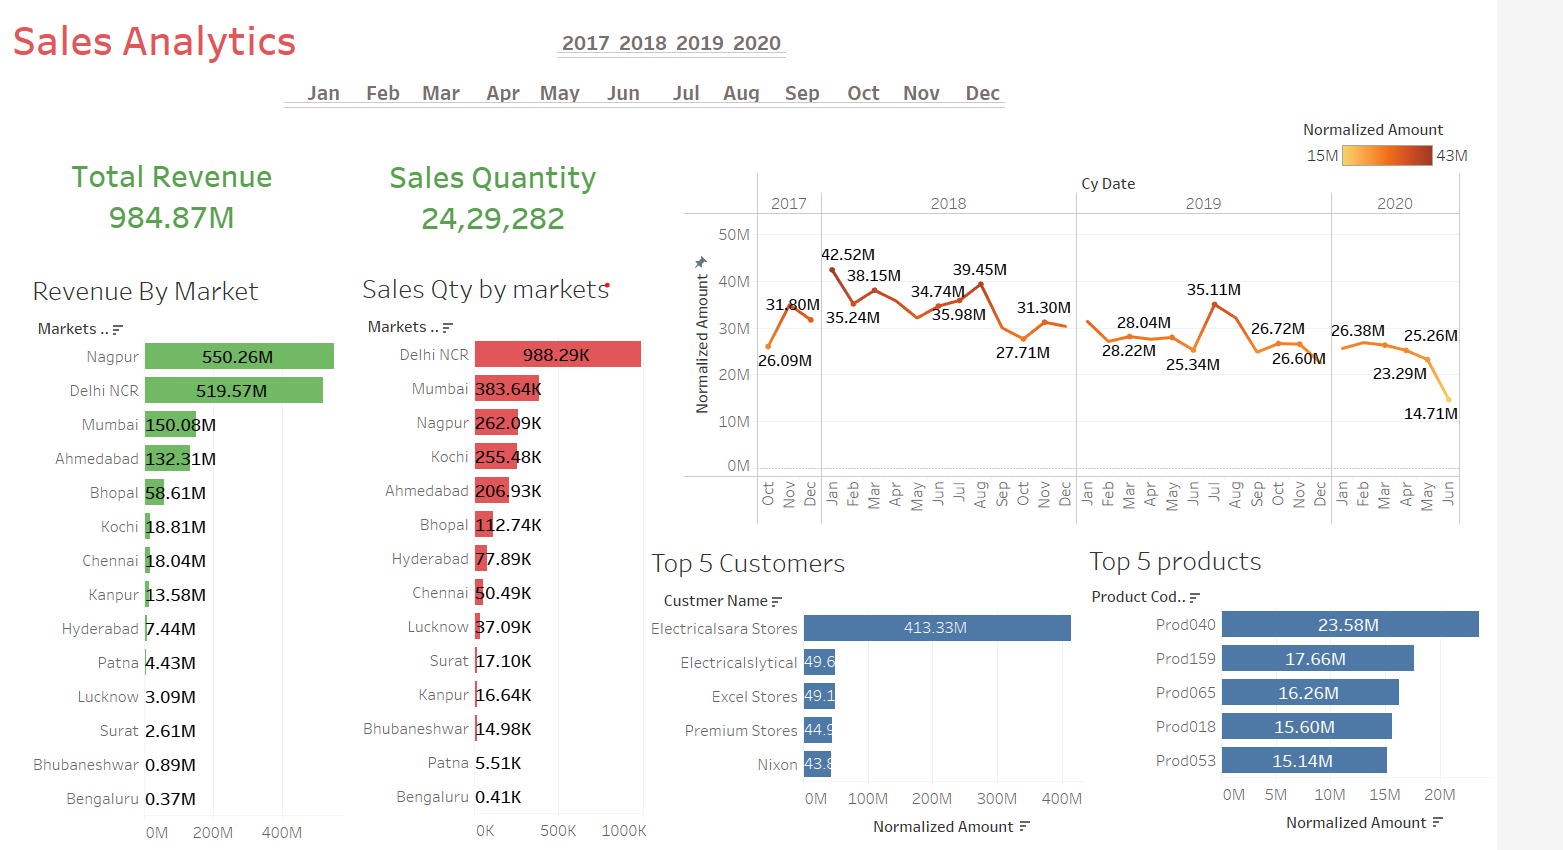

This screenshot's page, from the dashboard's own definition file:
{"tool":"tableau","page":{"name":"Sales Analytics","canvas":[1500,900],"ordinal":0},"visuals":[{"type":"title","box":[8,8,1484,63]},{"type":"worksheet","title":"Year","mark":"Automatic","cols":["cy_date"],"box":[560,33,269,42]},{"type":"worksheet","title":"Month","mark":"Automatic","cols":["cy_date"],"box":[287,83,757,36]},{"type":"legend","title":"Revenue by year","param":"[federated.1uiegb21ql1wom13a0ei50z3dwzk].[sum:Calculation_889742457492054017:qk]","box":[1306,120,170,88]},{"type":"worksheet","title":"Revenue","mark":"Automatic","box":[65,155,222,85]},{"type":"worksheet","title":"Quantity","mark":"Automatic","box":[386,156,245,93]},{"type":"worksheet","title":"Revenue by year","mark":"Automatic","rows":["Calculation_889742457492054017"],"cols":["cy_date","cy_date"],"box":[687,159,776,367]},{"type":"worksheet","title":"Sales Qty by markets","mark":"Automatic","rows":["markets_name"],"cols":["sales_qty"],"box":[361,268,296,617]},{"type":"worksheet","title":"Revenue By Market","mark":"Automatic","rows":["markets_name"],"cols":["Calculation_889742457492054017"],"box":[31,270,340,629]},{"type":"worksheet","title":"Top 5 products","mark":"Automatic","rows":["product_code (products)"],"cols":["Calculation_889742457492054017"],"box":[1088,540,407,322]},{"type":"worksheet","title":"Top 5 Customers","mark":"Automatic","rows":["custmer_name"],"cols":["Calculation_889742457492054017"],"box":[650,542,437,332]}]}

Visuals, with their boxes on the page's 1500x900 design canvas (x1, y1, x2, y2). These are canvas units, not pixel positions in the 1563x850 screenshot, which may show the page scaled, cropped or inside an application window:
title: (left=8, top=8, right=1492, bottom=71)
"Year" worksheet: (left=560, top=33, right=829, bottom=75)
"Month" worksheet: (left=287, top=83, right=1044, bottom=119)
"Revenue by year" legend: (left=1306, top=120, right=1476, bottom=208)
"Revenue" worksheet: (left=65, top=155, right=287, bottom=240)
"Quantity" worksheet: (left=386, top=156, right=631, bottom=249)
"Revenue by year" worksheet: (left=687, top=159, right=1463, bottom=526)
"Sales Qty by markets" worksheet: (left=361, top=268, right=657, bottom=885)
"Revenue By Market" worksheet: (left=31, top=270, right=371, bottom=899)
"Top 5 products" worksheet: (left=1088, top=540, right=1495, bottom=862)
"Top 5 Customers" worksheet: (left=650, top=542, right=1087, bottom=874)
